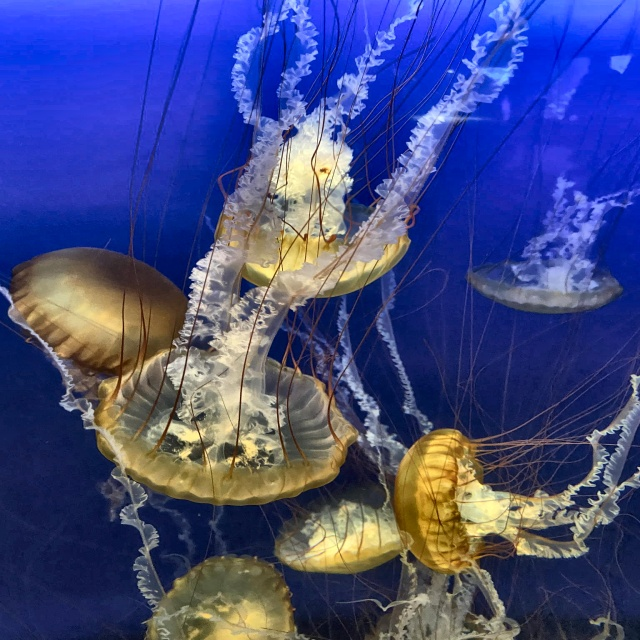jellyfish: (83, 338, 362, 499), (215, 139, 406, 295), (17, 250, 188, 392), (463, 181, 628, 312), (392, 433, 510, 572), (144, 559, 323, 627), (272, 508, 411, 569)
